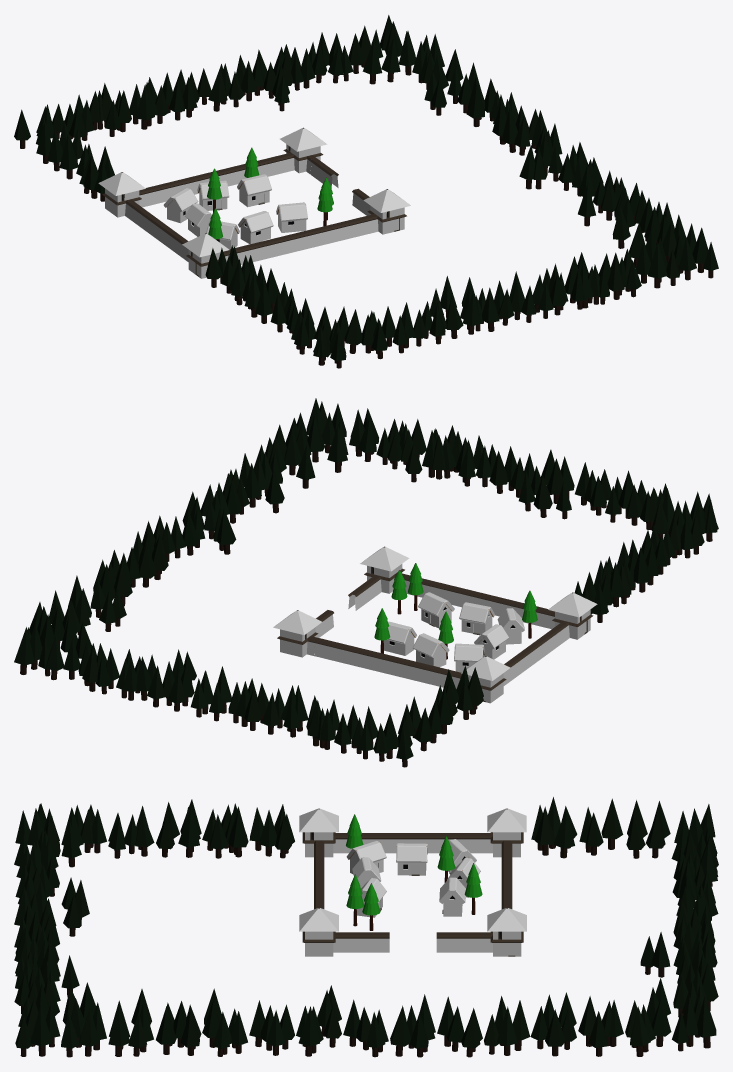
Rendered from old_town_01.obj.
3 views of the same model, one above another, from view 1: azimuth 30°, elevation 25°; view 2: azimuth 150°, elevation 25°; view 3: azimuth 270°, elevation 25° (orthographic). The views are drawn at different scales.
Visible parts, largest first — view 1: CornerFort.001, CornerFort.003, CornerFort.002, CornerFort.004, Cube.053, Cube.051, Cube.054, Cube.048, Cube.016, Cube.015, Cube.017, Cube.001 (+2 smaller); view 2: CornerFort.002, CornerFort.004, CornerFort.001, CornerFort.003, Cube.051, Cube.049, Cube.054, Cube.053, Cube.002, Cube.004, Cube.003, Cube.050 (+3 smaller); view 3: CornerFort.001, CornerFort.002, CornerFort.004, CornerFort.003, Cube.050, Cube.033, Cube.035, Cube.053, Cube.052, Cube.021, Cube.020, Cylinder.111 (+46 smaller).
Part boxes in pixels (bbox=[...]): CornerFort.001: bbox=[363, 189, 410, 234]; CornerFort.003: bbox=[98, 172, 145, 217]; CornerFort.002: bbox=[280, 127, 327, 173]; CornerFort.004: bbox=[182, 233, 229, 278]; Cube.053: bbox=[237, 174, 271, 207]; Cube.051: bbox=[238, 211, 273, 244]; Cube.054: bbox=[276, 202, 307, 232]; Cube.048: bbox=[163, 188, 198, 223]; Cube.016: bbox=[295, 224, 334, 250]; Cube.015: bbox=[259, 233, 298, 259]; Cube.017: bbox=[331, 215, 371, 241]; Cube.001: bbox=[140, 181, 178, 207]; CornerFort.002: bbox=[273, 610, 321, 657]; CornerFort.004: bbox=[548, 592, 597, 639]; CornerFort.001: bbox=[360, 546, 409, 593]; CornerFort.003: bbox=[461, 656, 510, 703]; Cube.051: bbox=[459, 602, 494, 635]; Cube.049: bbox=[413, 633, 449, 667]; Cube.054: bbox=[418, 592, 454, 628]; Cube.053: bbox=[383, 621, 416, 655]; Cube.002: bbox=[389, 656, 430, 683]; Cube.004: bbox=[314, 638, 354, 665]; Cube.003: bbox=[352, 647, 392, 674]; Cube.050: bbox=[474, 624, 509, 659]; CornerFort.001: bbox=[299, 908, 338, 956]; CornerFort.002: bbox=[487, 908, 526, 956]; CornerFort.004: bbox=[299, 808, 338, 857]; CornerFort.003: bbox=[487, 808, 526, 857]; Cube.050: bbox=[396, 843, 427, 875]; Cube.033: bbox=[342, 932, 389, 952]; Cube.035: bbox=[436, 932, 483, 952]; Cube.053: bbox=[439, 877, 465, 916]; Cube.052: bbox=[346, 840, 386, 874]; Cube.021: bbox=[389, 833, 436, 853]; Cube.020: bbox=[436, 833, 483, 853]; Cylinder.111: bbox=[697, 995, 716, 1048].
Size of the model in its own units: 110 by 12.15 by 150.
